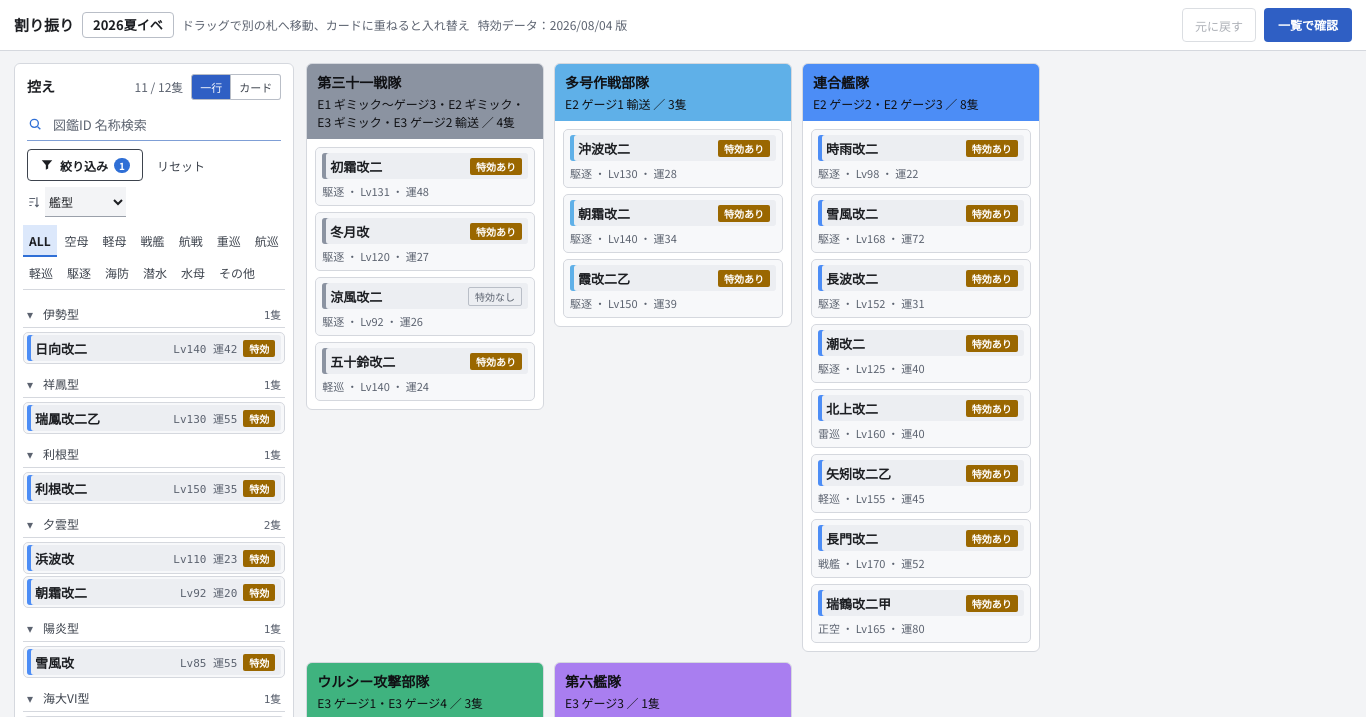
Scenario: 割り振り画面の中身（AssignScreen） › 検索 › 図鑑 ID（図鑑番号）でも探せる（1033 は速吸改）
Type "1033" into the search field named "図鑑ID・名称で検索" at (165, 124), box [49, 108, 281, 140]
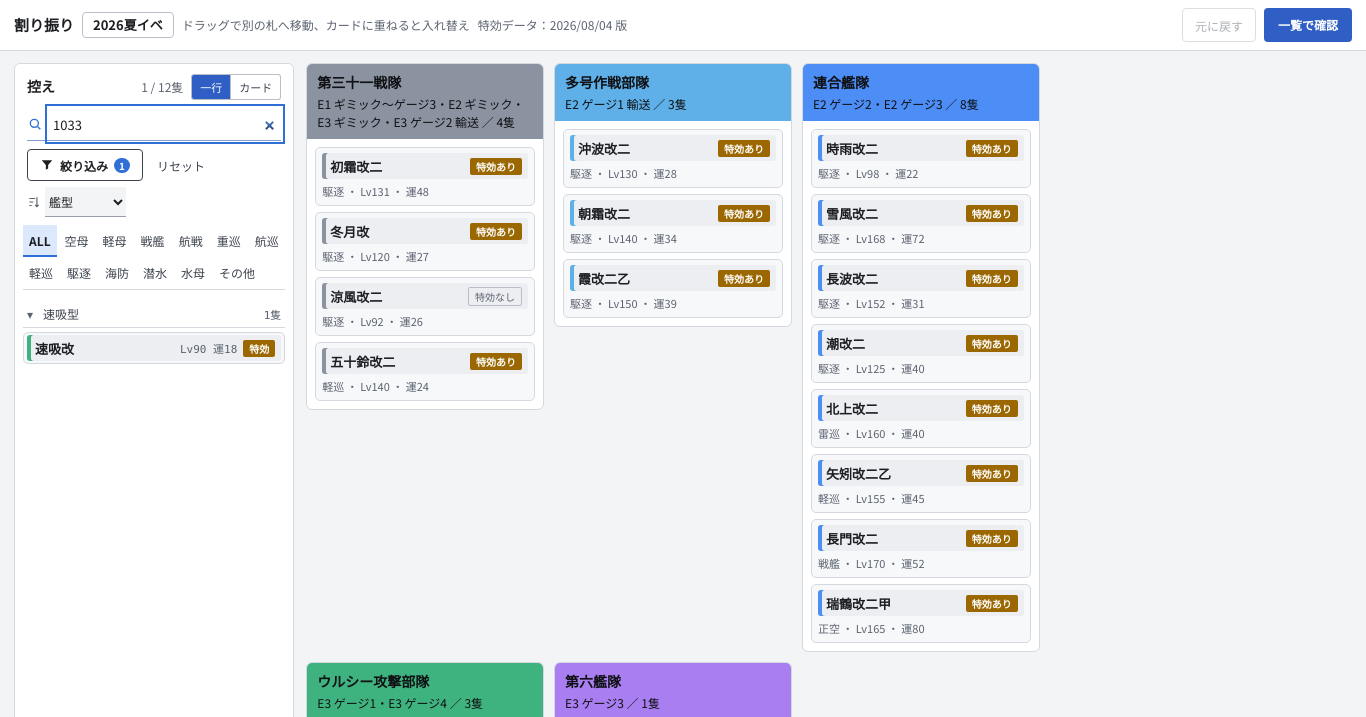
Expected: the button "速吸改 Lv90 運18 特効" is shown, [23, 332, 285, 364]
